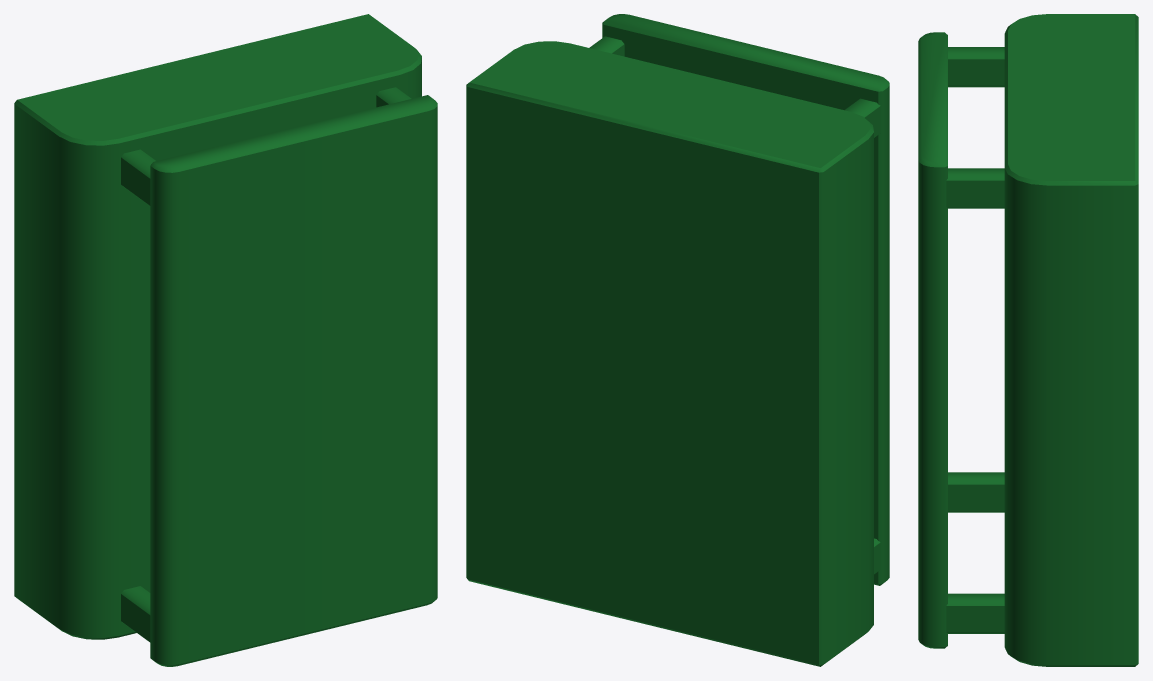
The model's file is Tower8x.fbx.
3 views of the same model, side by side, from view 1: azimuth 30°, elevation 25°; view 2: azimuth 150°, elevation 25°; view 3: azimuth 270°, elevation 25° (orthographic). The views are drawn at different scales.
Visible parts, largest first — view 1: Tower8x; view 2: Tower8x; view 3: Tower8x.
Boxes of the visible parts, left/top/right/bottom form: Tower8x: left=14, top=14, right=437, bottom=666; Tower8x: left=466, top=14, right=889, bottom=666; Tower8x: left=918, top=14, right=1138, bottom=666.
Size of the model in its own units: 600 by 800 by 328.
